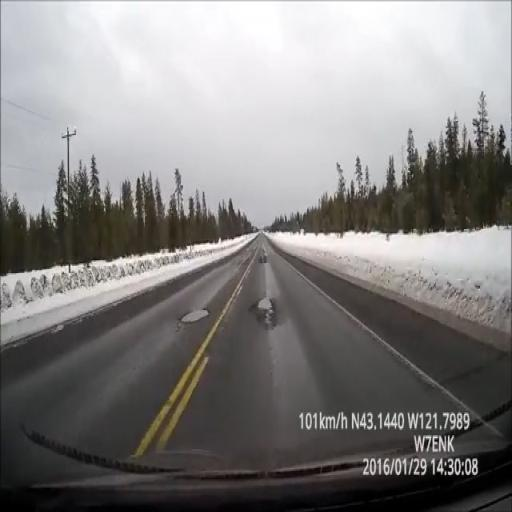Potholes: (249, 293, 279, 330), (177, 310, 208, 331)
